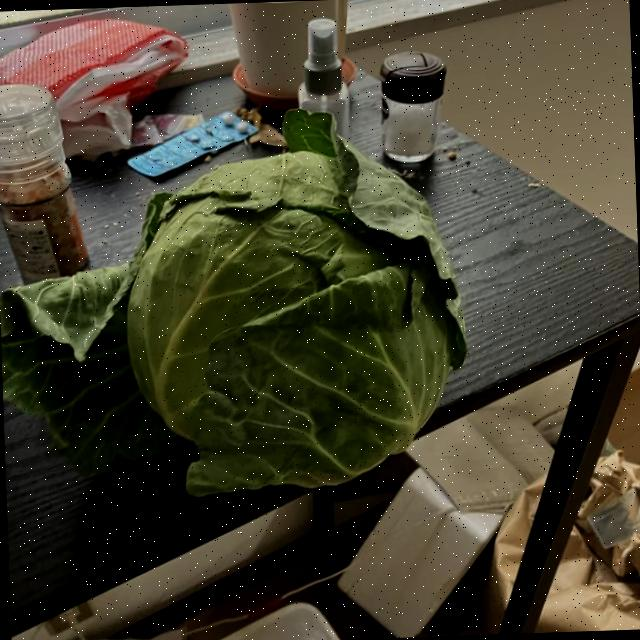cabbage: (0, 98, 475, 506)
